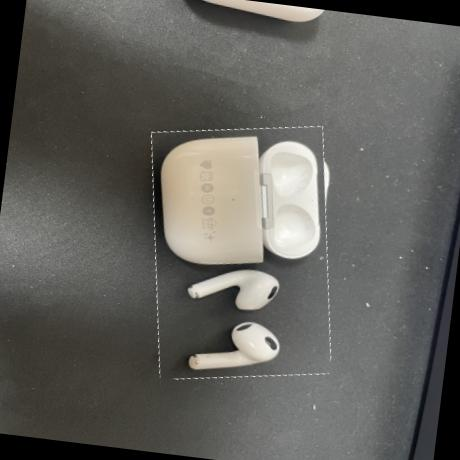airpod3: (131, 113, 350, 393)
